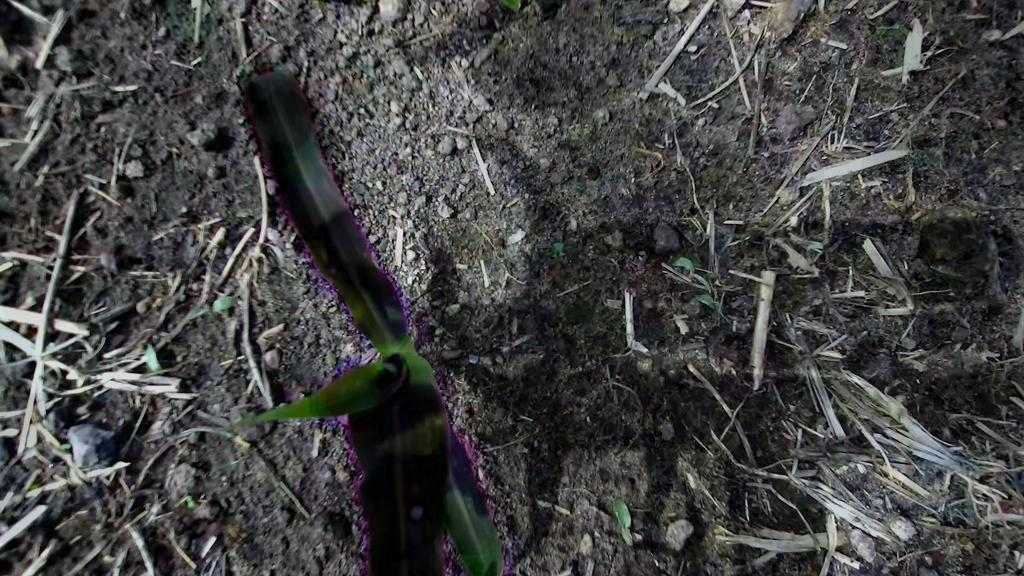BroWeed: (670, 252, 717, 301), (605, 497, 642, 548), (185, 291, 238, 321), (149, 290, 182, 329), (139, 342, 165, 378), (410, 62, 433, 96), (694, 289, 723, 314), (223, 519, 242, 539), (233, 433, 252, 450), (553, 241, 567, 258), (184, 495, 195, 509), (178, 282, 186, 301), (30, 482, 43, 491), (60, 442, 70, 450)
Maize: (107, 58, 527, 576)
